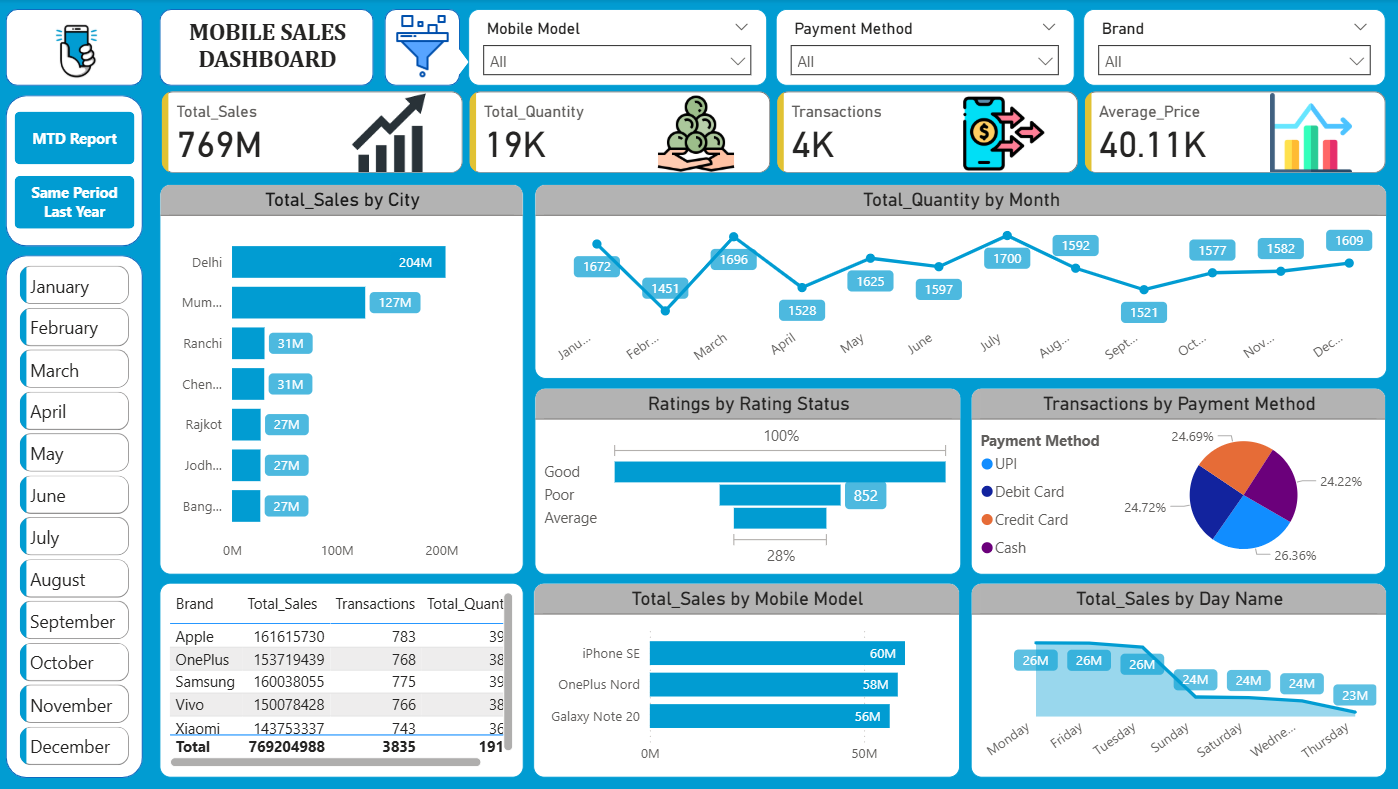

This screenshot's page, from the dashboard's own definition file:
{"tool":"powerbi","page":{"name":"Dashboard","canvas":[1280,720],"ordinal":0},"visuals":[{"type":"shape","box":[8.1,9.3,124.4,69.8],"z":0},{"type":"image","box":[24.4,16.3,94.2,62.8],"z":1000},{"type":"shape","box":[8.1,87.2,124.4,137.2],"z":2000},{"type":"shape","box":[8.1,232.6,124.4,474.4],"z":3000},{"type":"advancedSlicerVisual","fields":{"Values":["Custom_Calendar.Date.Variation.Date Hierarchy.Month"]},"box":[16.3,237.2,109.3,464],"z":4000},{"type":"cardVisual","fields":{"Data":["Sales_Data.Total_Sales","Sales_Data.Total_Quantity","Sales_Data.Transactions","Sales_Data.Average_Price"]},"box":[132.6,67.4,1147.7,108.1],"z":5000},{"type":"slicer","fields":{"Values":["Sales_Data.Mobile Model"]},"box":[427.9,9.3,270.9,69.8],"z":6000},{"type":"slicer","fields":{"Values":["Sales_Data.Payment Method"]},"box":[707,9.3,270.9,69.8],"z":7000},{"type":"slicer","fields":{"Values":["Sales_Data.Brand"]},"box":[986,9.3,274.4,69.8],"z":8000},{"type":"shape","box":[351.2,9.3,68.6,69.8],"z":9000},{"type":"shape","box":[407,43,20.9,27.9],"z":10000},{"type":"image","box":[350,14,70.9,58.1],"z":11000},{"type":"shape","box":[147.7,9.3,194.2,69.8],"z":12000},{"type":"textbox","box":[162.8,12.8,164,61.6],"z":13000},{"type":"lineChart","fields":{"Category":["Custom_Calendar.Date.Variation.Date Hierarchy.Month"],"Y":["Sales_Data.Total_Quantity"]},"box":[487.2,167.4,773.3,176.7],"z":14000},{"type":"barChart","fields":{"Category":["Sales_Data.City"],"Y":["Sales_Data.Total_Sales"]},"box":[147.7,167.4,330.2,354.7],"z":15000},{"type":"funnel","title":"Ratings by Rating Status","fields":{"Category":["Sales_Data.Rating Status"],"Y":["CountNonNull(Sales_Data.Customer Ratings)"]},"box":[487.2,352.3,387.2,169.8],"z":16000},{"type":"pieChart","fields":{"Y":["Sales_Data.Transactions"],"Category":["Sales_Data.Payment Method"]},"box":[883.7,352.3,376.7,169.8],"z":17000},{"type":"clusteredBarChart","fields":{"Y":["Sales_Data.Total_Sales"],"Category":["Sales_Data.Mobile Model"]},"box":[487.1,529.7,387,177],"z":18000},{"type":"areaChart","fields":{"Category":["Custom_Calendar.Day Name"],"Y":["Sales_Data.Total_Sales"]},"box":[883.7,529.7,377.4,177],"z":19000},{"type":"tableEx","fields":{"Values":["Sales_Data.Brand","Sales_Data.Total_Sales","Sales_Data.Transactions","Sales_Data.Total_Quantity"]},"box":[147.7,530.2,330.2,176.7],"z":20000},{"type":"pageNavigator","box":[16.3,102.3,109.3,107],"z":21000}]}

Visuals, with their boxes in screenshot pixels (x1, y1, x2, y2), scaled from the page's 1280x720 canvas onto the 1398x789 screenshot:
shape: crop(9, 10, 145, 87)
image: crop(27, 18, 130, 87)
shape: crop(9, 96, 145, 246)
shape: crop(9, 255, 145, 775)
advancedSlicerVisual - Custom_Calendar.Date.Variation.Date Hierarchy.Month: crop(18, 260, 137, 768)
cardVisual - Sales_Data.Total_Sales x Sales_Data.Total_Quantity: crop(145, 74, 1397, 192)
slicer - Sales_Data.Mobile Model: crop(467, 10, 763, 87)
slicer - Sales_Data.Payment Method: crop(772, 10, 1068, 87)
slicer - Sales_Data.Brand: crop(1077, 10, 1377, 87)
shape: crop(384, 10, 459, 87)
shape: crop(445, 47, 467, 78)
image: crop(382, 15, 460, 79)
shape: crop(161, 10, 373, 87)
textbox: crop(178, 14, 357, 82)
lineChart - Custom_Calendar.Date.Variation.Date Hierarchy.Month x Sales_Data.Total_Quantity: crop(532, 183, 1377, 377)
barChart - Sales_Data.City x Sales_Data.Total_Sales: crop(161, 183, 522, 572)
"Ratings by Rating Status" funnel: crop(532, 386, 955, 572)
pieChart - Sales_Data.Transactions x Sales_Data.Payment Method: crop(965, 386, 1377, 572)
clusteredBarChart - Sales_Data.Total_Sales x Sales_Data.Mobile Model: crop(532, 580, 955, 774)
areaChart - Custom_Calendar.Day Name x Sales_Data.Total_Sales: crop(965, 580, 1377, 774)
tableEx - Sales_Data.Brand x Sales_Data.Total_Sales: crop(161, 581, 522, 775)
pageNavigator: crop(18, 112, 137, 229)
